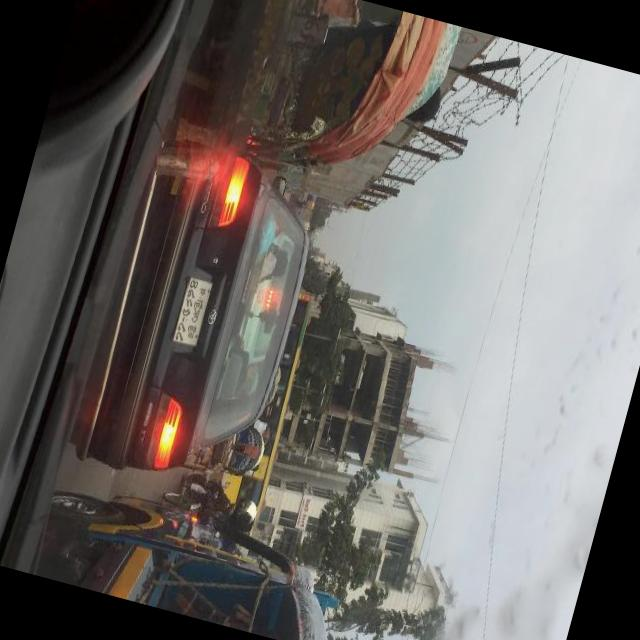bus: (225, 286, 317, 528)
car: (74, 130, 334, 504)
motorcycle: (172, 0, 463, 206), (181, 413, 269, 490), (182, 471, 225, 504)
truck: (28, 475, 335, 640)
